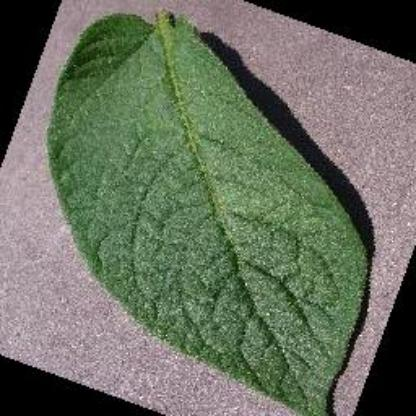Healthy-plant: (44, 3, 374, 415)
